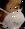with_mask: (2, 2, 25, 29)
